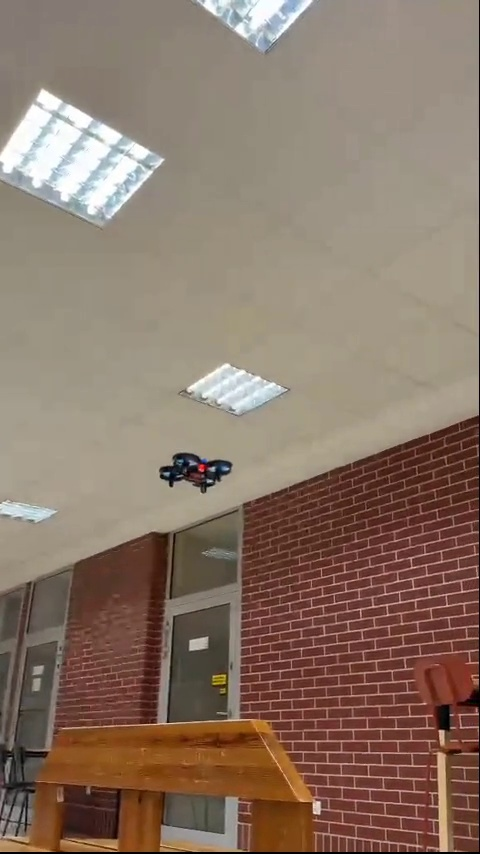drone: (162, 449, 236, 494)
